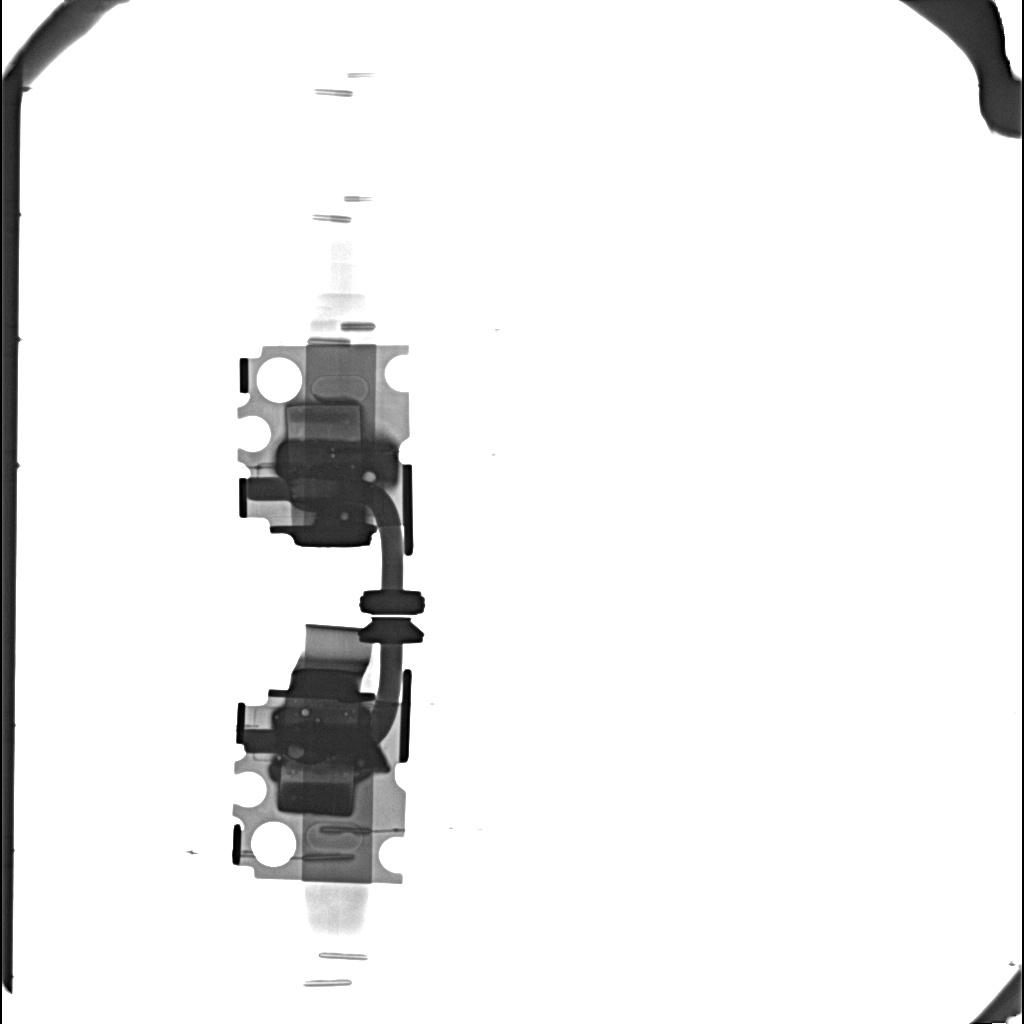PX: (277, 765, 356, 817), (284, 402, 362, 438)
QP: (301, 708, 310, 716), (341, 512, 349, 520)
SX: (275, 441, 398, 486), (275, 723, 376, 761)
